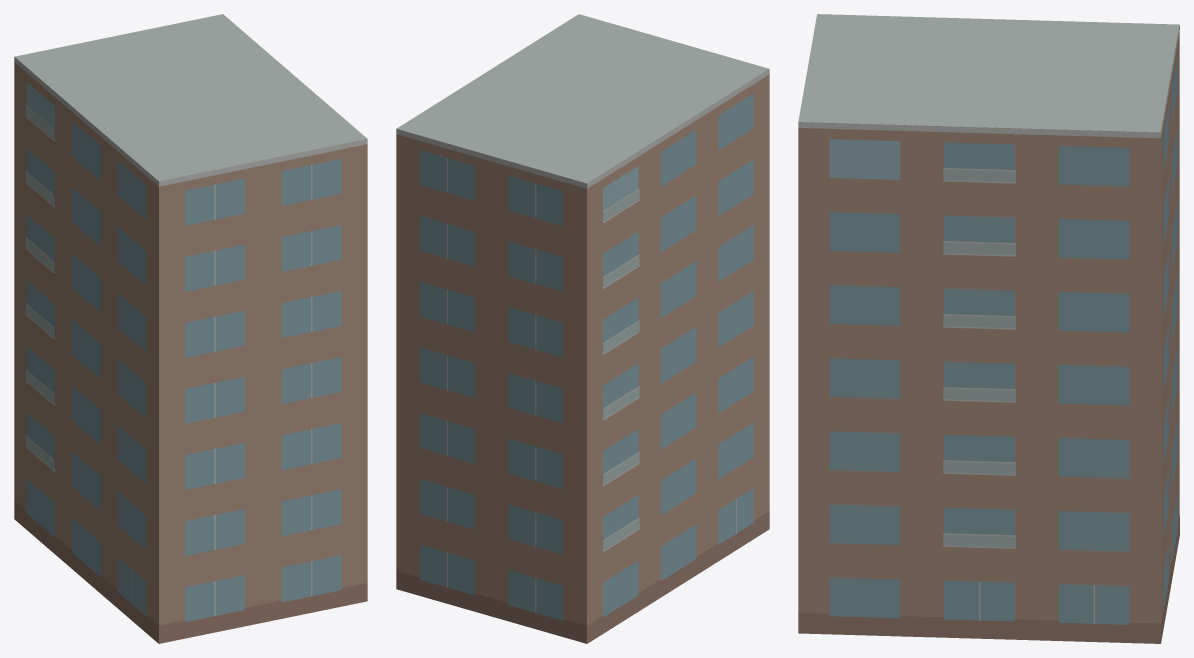
Rendered from survey-upis-32642088.glb.
3 views of the same model, side by side, from view 1: azimuth 30°, elevation 25°; view 2: azimuth 150°, elevation 25°; view 3: azimuth 270°, elevation 25° (orthographic). The views are drawn at different scales.
Parts seen in each view (by area): view 1: survey-upis-32642088.tmp; view 2: survey-upis-32642088.tmp; view 3: survey-upis-32642088.tmp.
Boxes of the visible parts, x1=… form: survey-upis-32642088.tmp: x1=14, y1=14, x2=367, y2=643; survey-upis-32642088.tmp: x1=396, y1=14, x2=769, y2=643; survey-upis-32642088.tmp: x1=798, y1=14, x2=1179, y2=643.
Size of the model in its own units: 10.54 by 21.2 by 14.34.
